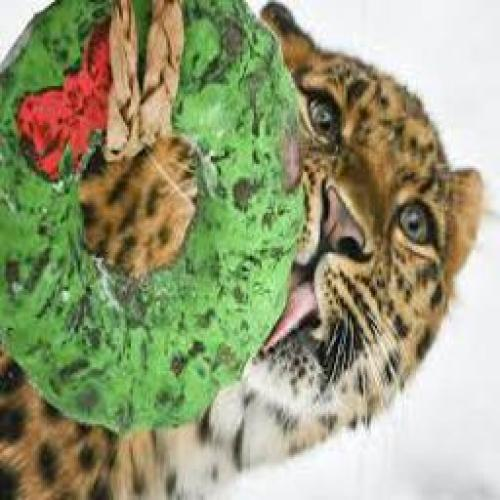amur_leopard-endangered: (255, 0, 482, 500)
